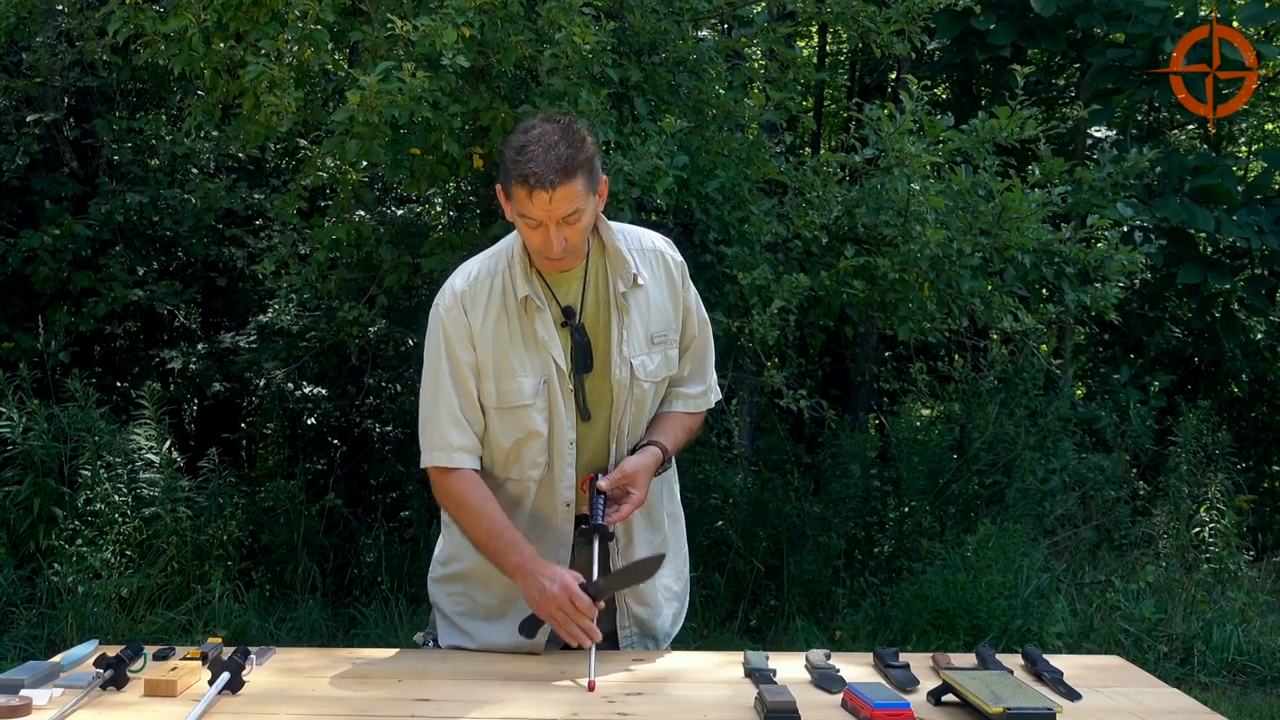knife: (512, 547, 672, 642)
